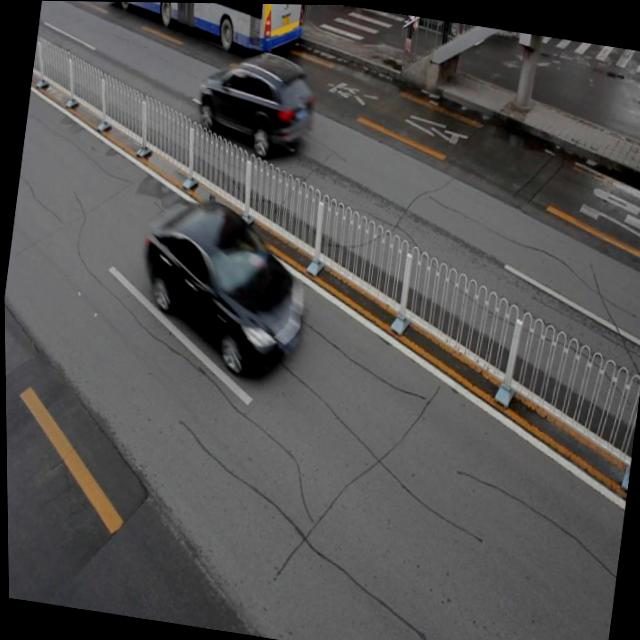car: (128, 188, 317, 380), (192, 43, 320, 159)
van: (97, 1, 304, 54)
